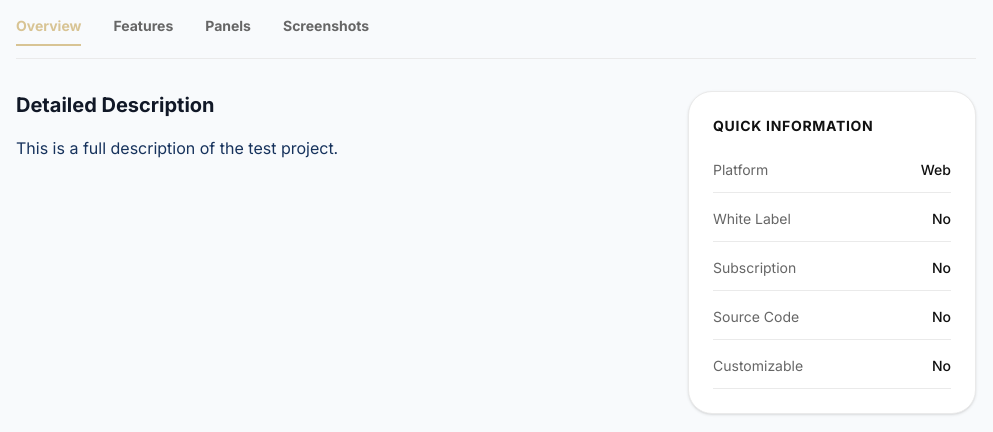
ProjectTabs Component › switches to the Panels tab when clicked
// Click the Panels tab
Click the button "Panels": point(228, 31) [205,16,251,46]
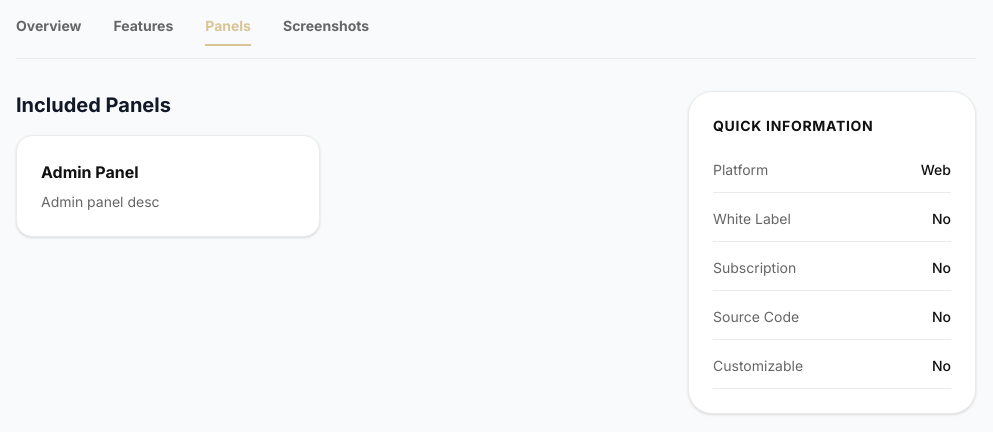
Result: the heading "Included Panels" is shown at [16,93,171,117]
Result: the heading "Admin Panel" is shown at [41,162,139,182]
